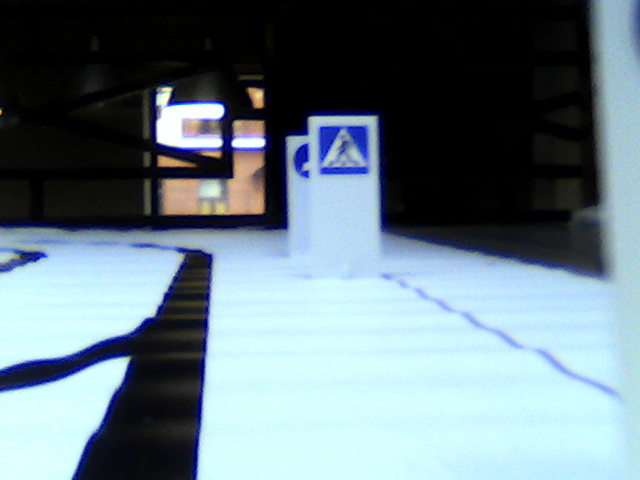pesh: (320, 125, 370, 176)
